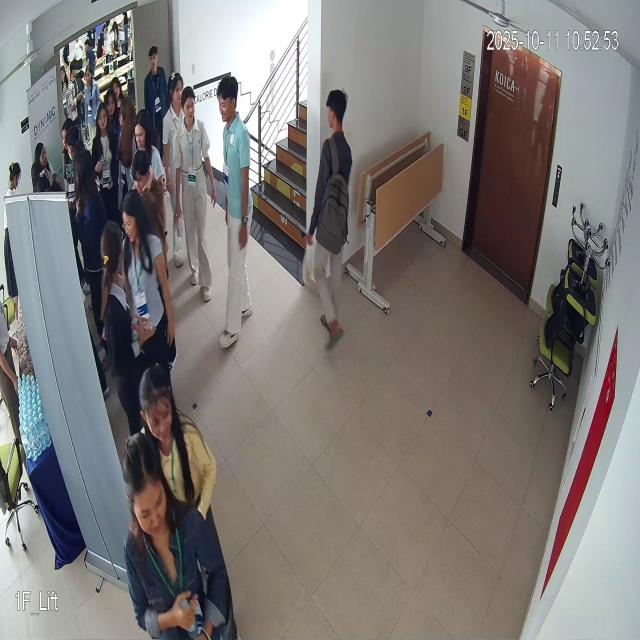face: (122, 428, 172, 544), (139, 358, 178, 450), (120, 192, 152, 250), (216, 69, 241, 131)
